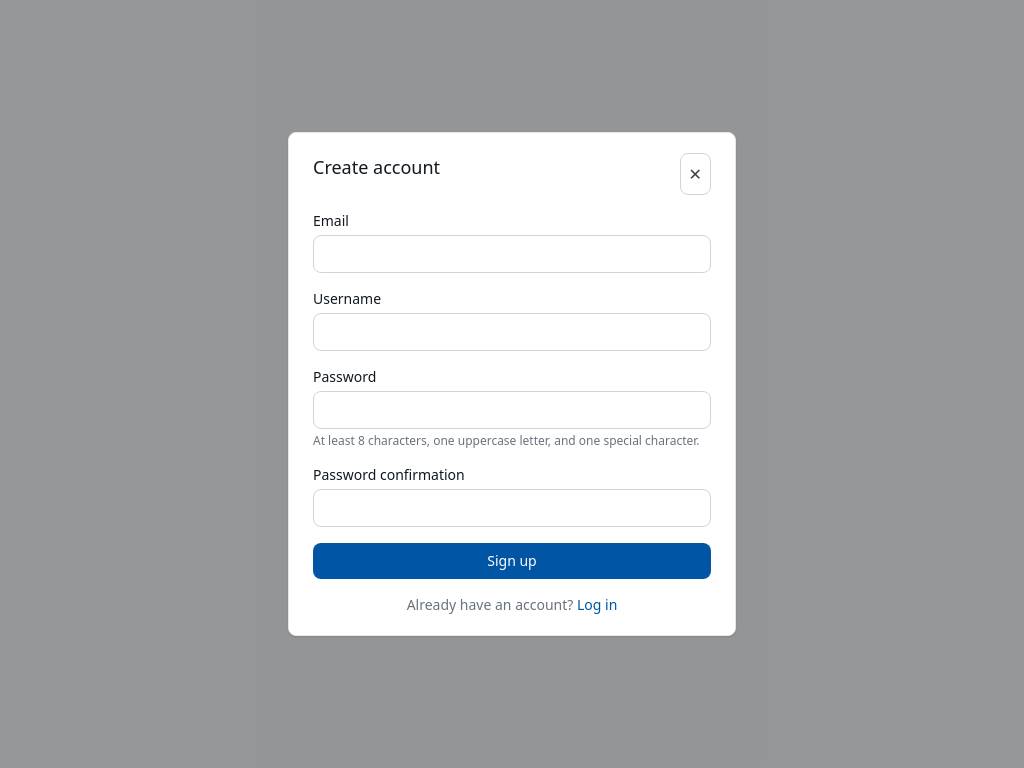
AuthModal › validates signup passwords before submitting
Type "new@example.com" into the field labelled "Email" at (512, 254), box [313,235,711,273]
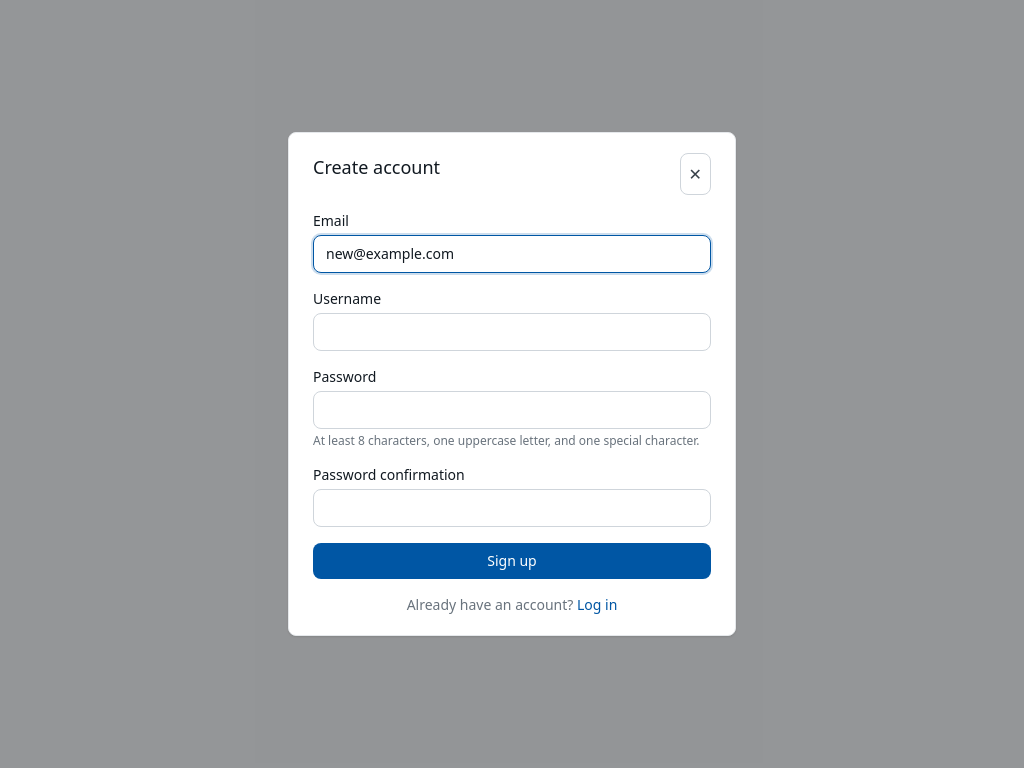
Type "newuser" into the field labelled "Username" at (512, 332), box [313,313,711,351]
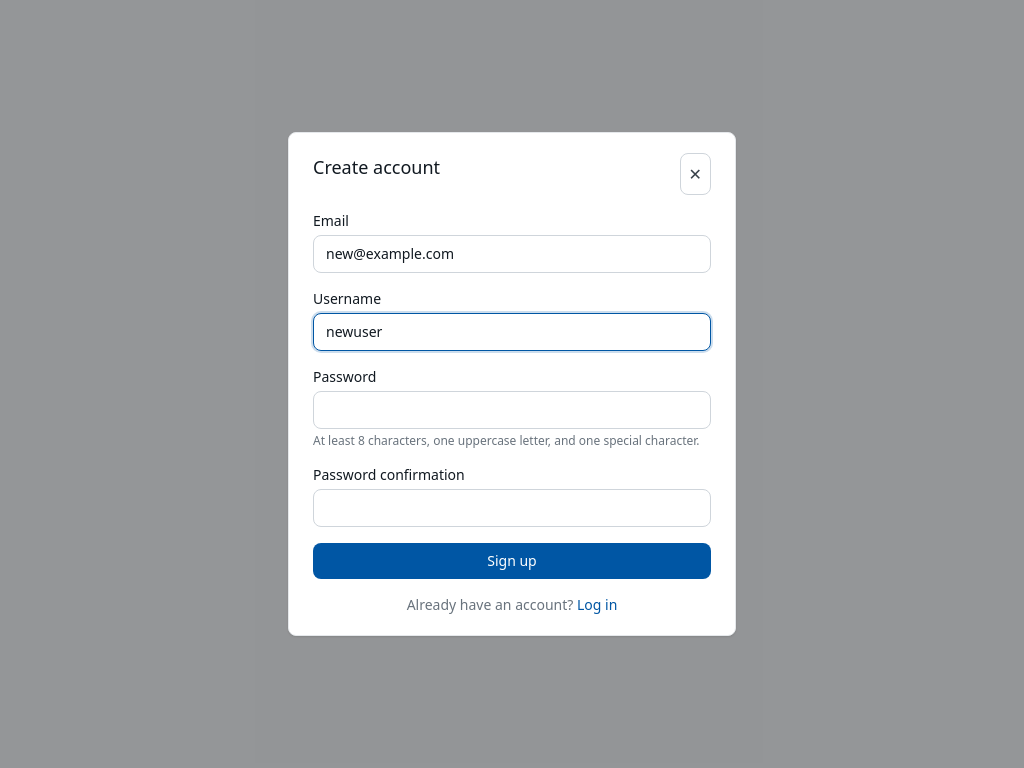
Type "weak" into the password field labelled "Password" at (512, 410), box [313,391,711,429]
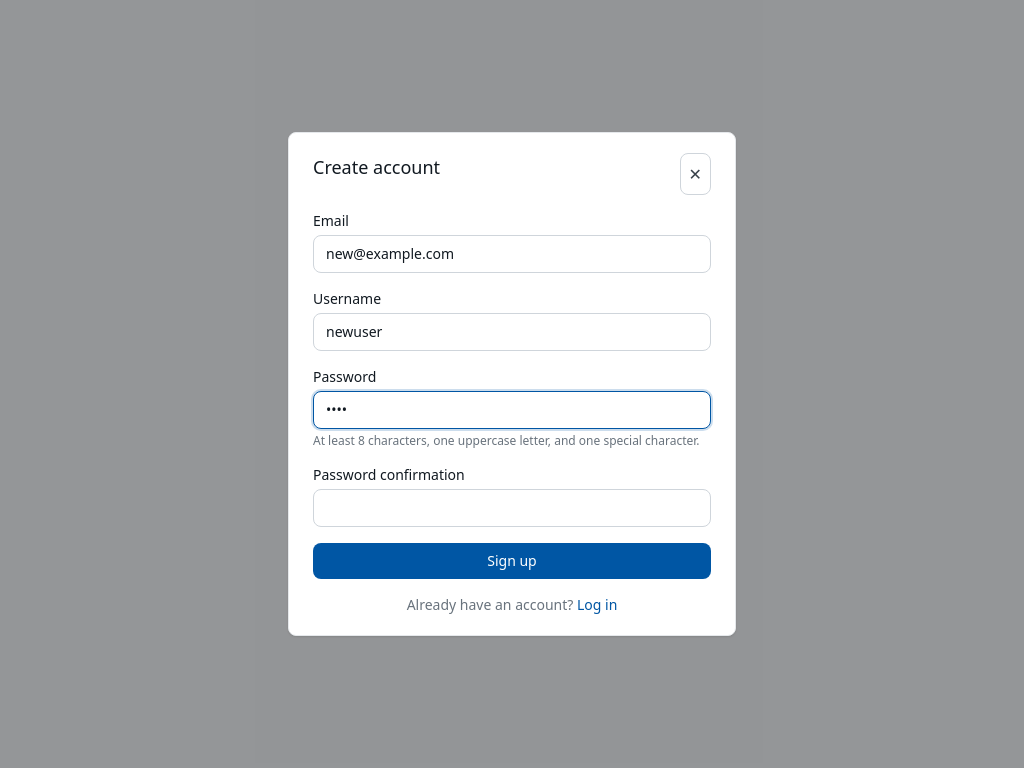
Type "weak" into the password field labelled "Password confirmation" at (512, 508), box [313,489,711,527]
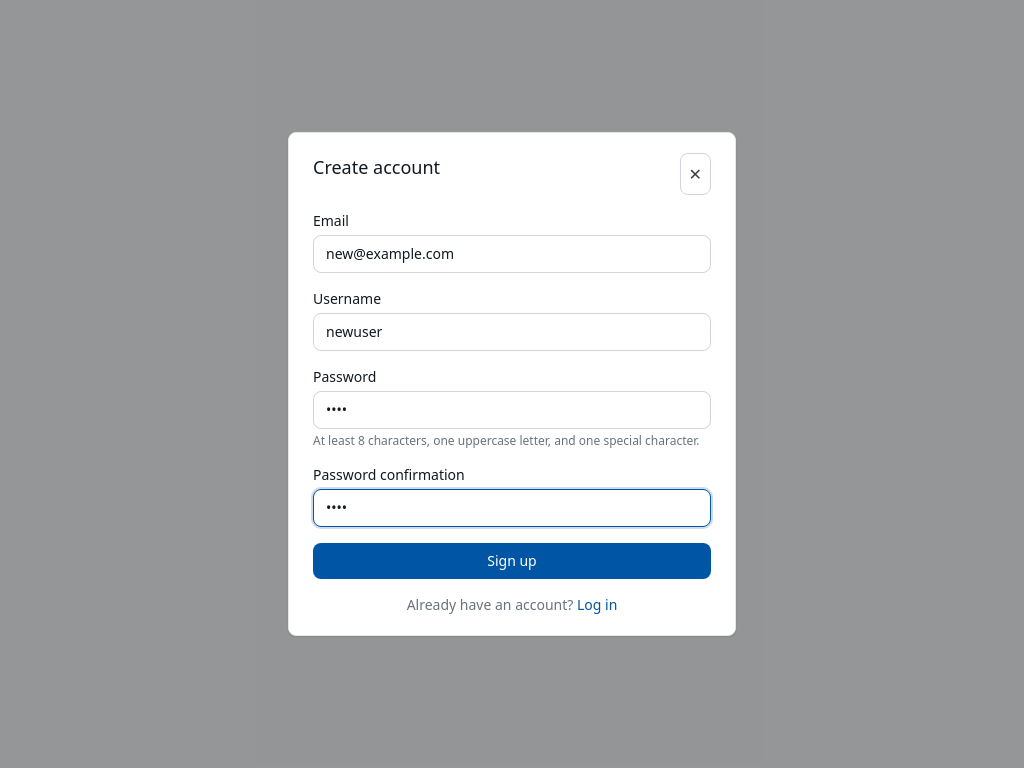
Click the button "Sign up" at (512, 561), box [313,543,711,579]
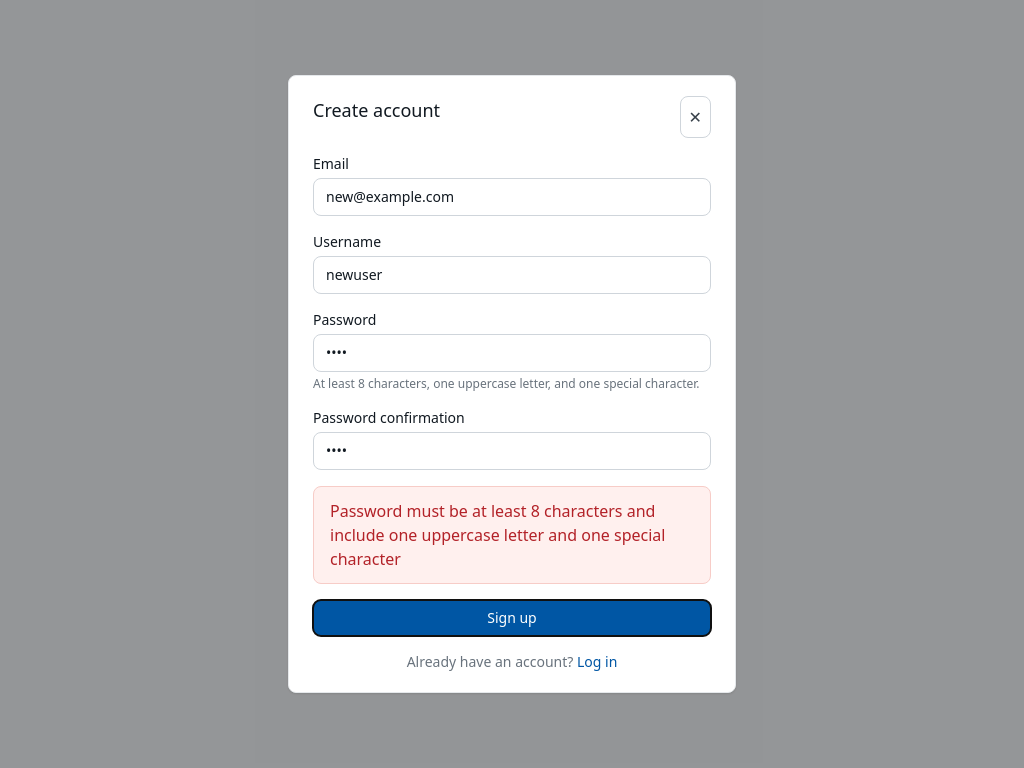
Check: the text "must be at least 8 characters and include one uppercase letter" is shown, box [330,500,665,570]
